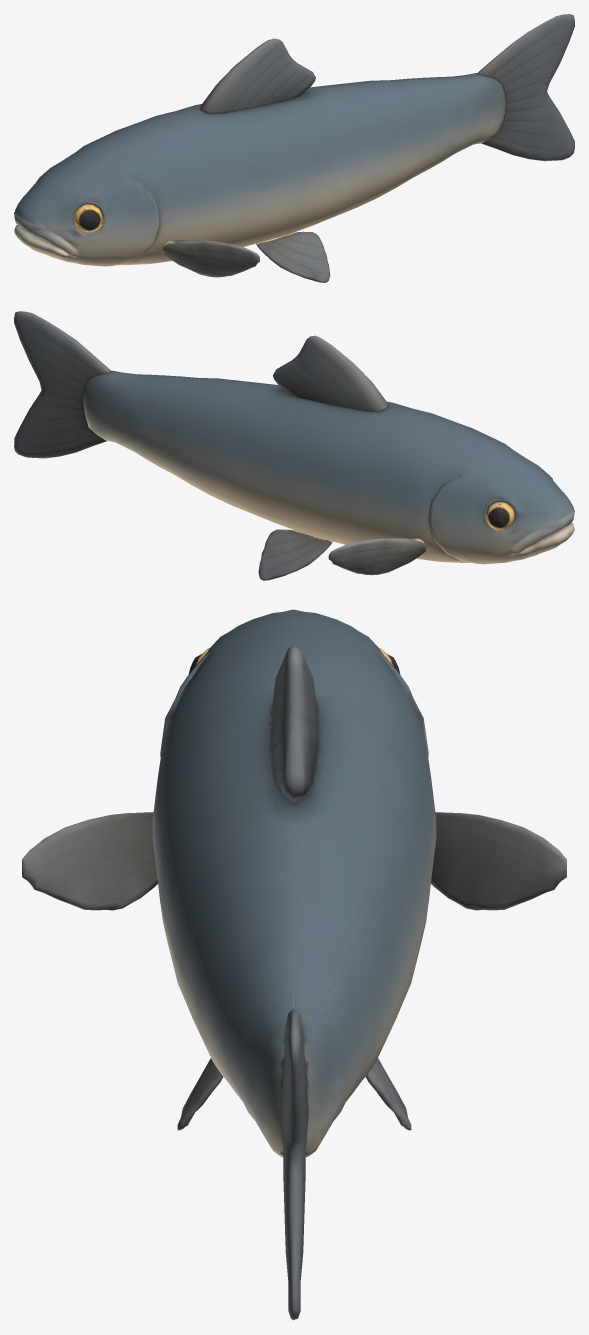
File: Fisch.glb
The picture shows the model from 3 angles, top to bottom: view 1: azimuth 30°, elevation 25°; view 2: azimuth 150°, elevation 25°; view 3: azimuth 270°, elevation 25°; orthographic projection. The views are drawn at different scales.
Parts seen in each view (by area): view 1: tripo_node_cbd844c4-46e3-477b-b8f5-d6f9466dd9f1; view 2: tripo_node_cbd844c4-46e3-477b-b8f5-d6f9466dd9f1; view 3: tripo_node_cbd844c4-46e3-477b-b8f5-d6f9466dd9f1.
Part boxes in pixels (box(x1,y1,x2,y2)): tripo_node_cbd844c4-46e3-477b-b8f5-d6f9466dd9f1: box(14, 14, 574, 282); tripo_node_cbd844c4-46e3-477b-b8f5-d6f9466dd9f1: box(14, 311, 574, 580); tripo_node_cbd844c4-46e3-477b-b8f5-d6f9466dd9f1: box(22, 609, 566, 1320).
Bounding box in the file's own units: 0.998 × 0.3926 × 0.4238.
Materials: 1 (1 with a texture image).
